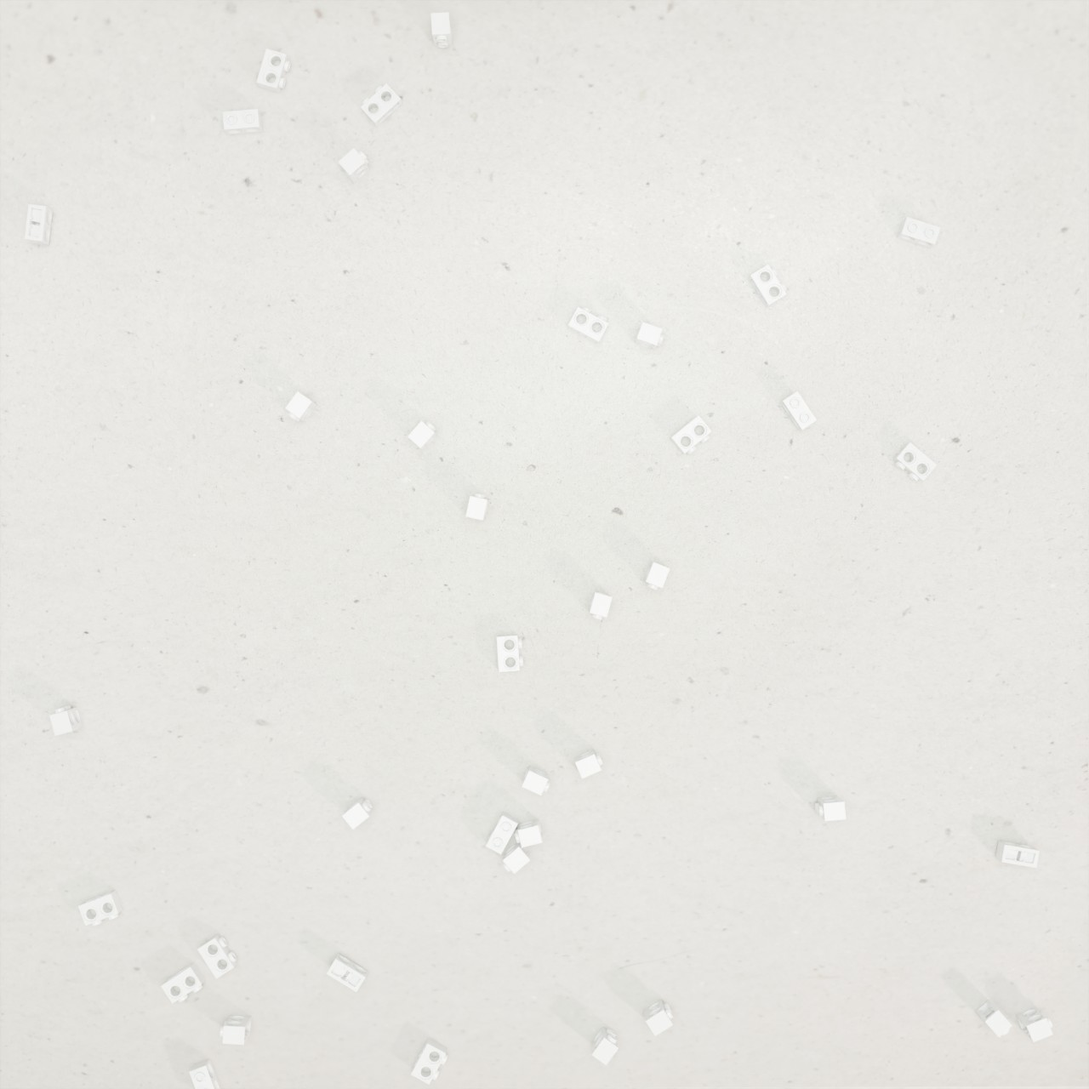lego: (161, 962, 206, 1004), (360, 83, 402, 127), (197, 933, 237, 979), (893, 442, 937, 482), (411, 1038, 448, 1085), (748, 264, 787, 308), (670, 415, 712, 455), (326, 953, 368, 992), (78, 890, 123, 926), (256, 48, 291, 93), (568, 306, 609, 344), (780, 391, 817, 432), (975, 999, 1013, 1038), (486, 812, 518, 855), (897, 217, 941, 248), (1016, 1007, 1053, 1043), (995, 841, 1040, 868), (24, 204, 53, 245), (338, 148, 370, 184), (643, 999, 674, 1036), (591, 1026, 619, 1066), (222, 109, 263, 135), (49, 705, 83, 736), (496, 634, 523, 672), (342, 797, 373, 830), (285, 391, 317, 422), (189, 1059, 222, 1089), (502, 840, 531, 874), (220, 1015, 252, 1045), (407, 421, 437, 451), (574, 749, 603, 779), (522, 765, 550, 796), (515, 819, 543, 848), (635, 322, 664, 350), (815, 796, 846, 821), (643, 562, 670, 590), (431, 12, 452, 48), (589, 591, 613, 620), (465, 493, 489, 521)
